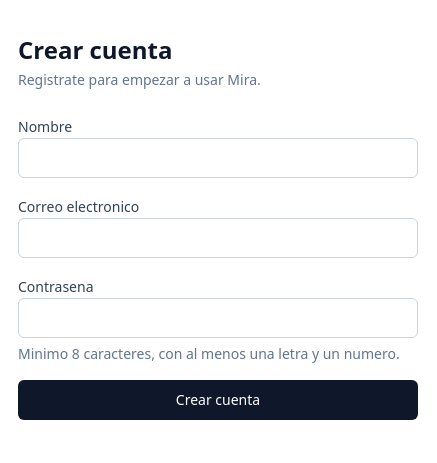
Test: RegisterPage › informa al usuario cuando la API no responde
Type "Ada Lovelace" into the field labelled "Nombre" at (218, 158), box [18,138,418,178]
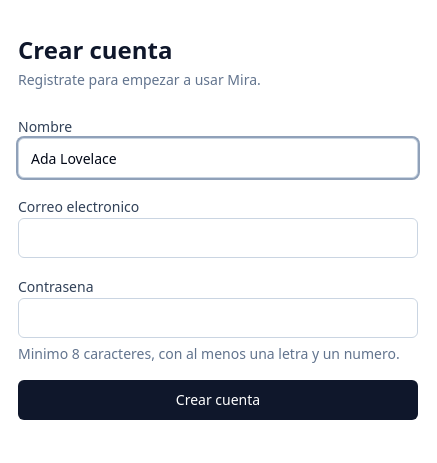
Type "ada@mira.dev" into the field labelled "Correo electronico" at (218, 238), box [18,218,418,258]
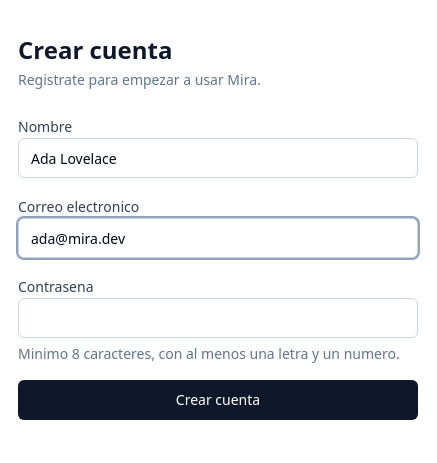
Type "abcd1234" into the password field labelled "Contrasena" at (218, 318), box [18,298,418,338]
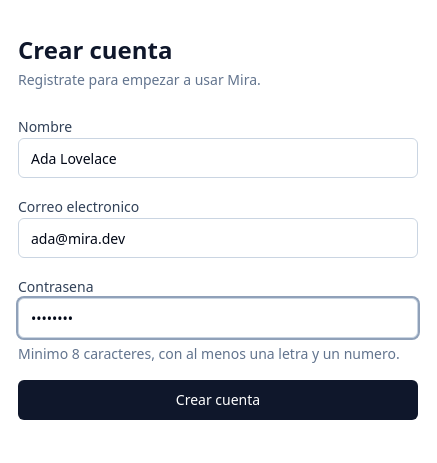
Click the button "Crear cuenta" at (218, 400), box [18,380,418,420]
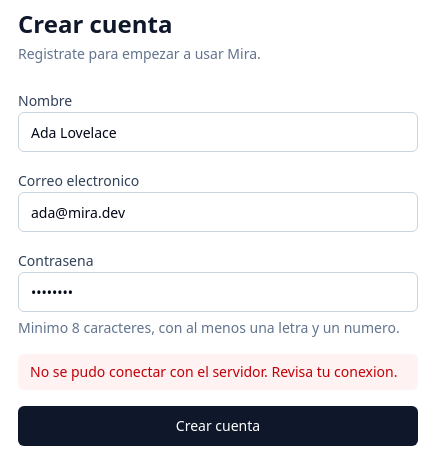
Expected: the message shows "No se pudo conectar", [30,362,398,381]
